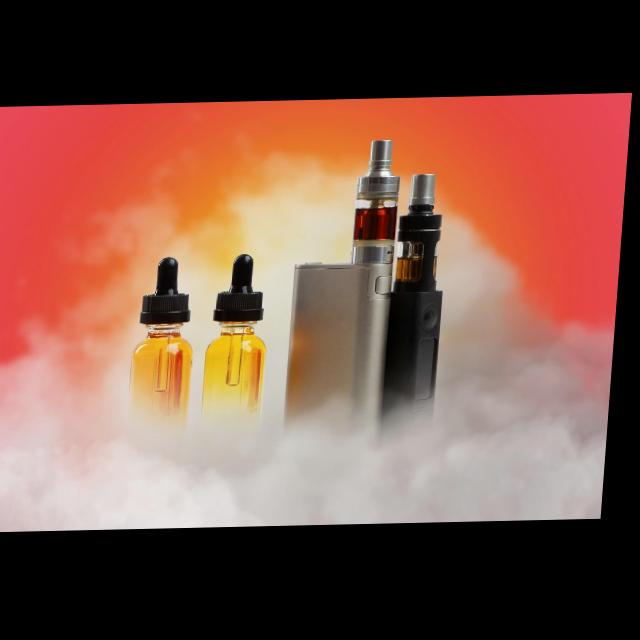vape: (287, 143, 404, 446), (386, 175, 453, 444)
